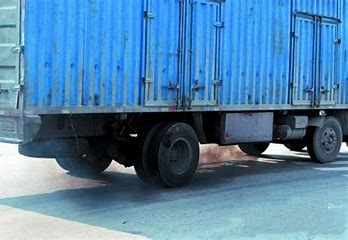smoke: (202, 145, 245, 165)
